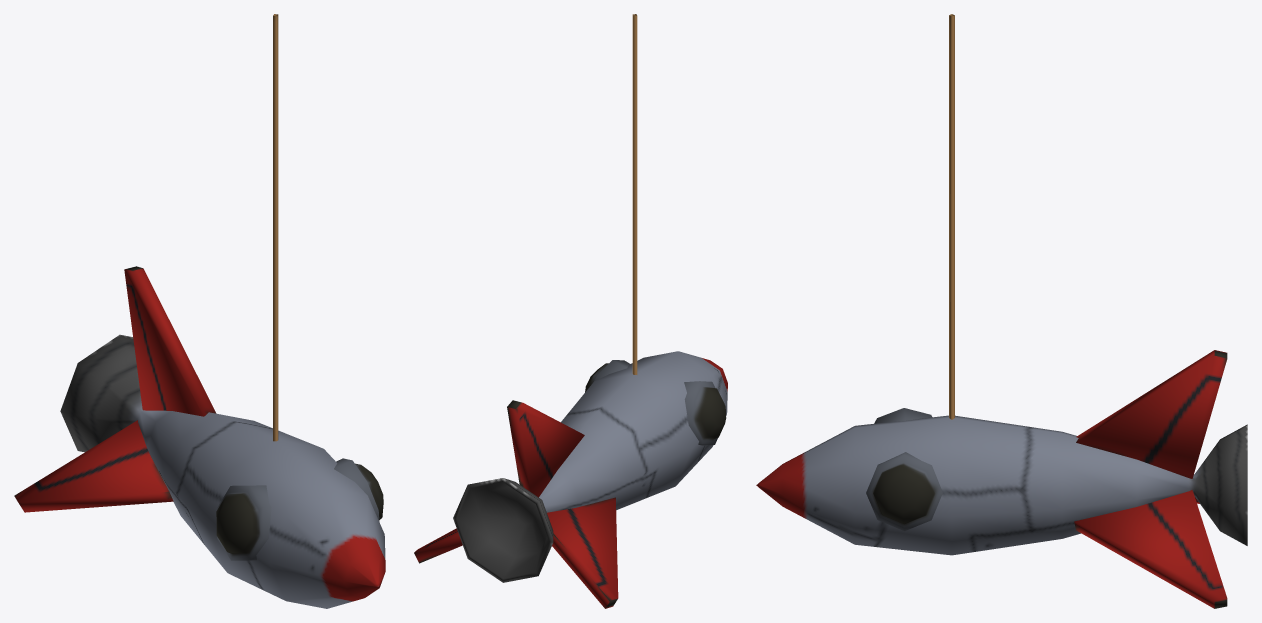
Rendered from Model_Prop_Ship.fbx.
3 renders of one model, left to right at view 1: azimuth 30°, elevation 25°; view 2: azimuth 150°, elevation 25°; view 3: azimuth 270°, elevation 25°, orthographic. The views are drawn at different scales.
Parts seen in each view (by area): view 1: Circle, Cube.132, Cube.130, Circle.006, Circle.007; view 2: Circle, Cube.132, Cube.130, Circle.006, Circle.007, Cube.131; view 3: Circle, Cube.130, Cube.131, Circle.006, Circle.007.
Part boxes in pixels (x1,y1,x2,y2): Circle: [60, 334, 385, 608]; Cube.132: [14, 420, 173, 512]; Cube.130: [124, 266, 216, 416]; Circle.006: [216, 458, 383, 560]; Circle.007: [273, 14, 278, 441]; Circle: [453, 351, 727, 582]; Cube.132: [547, 497, 618, 608]; Cube.130: [507, 400, 584, 497]; Circle.006: [585, 360, 726, 445]; Circle.007: [632, 14, 637, 374]; Cube.131: [414, 528, 462, 563]; Circle: [756, 415, 1247, 555]; Cube.130: [1076, 350, 1227, 478]; Cube.131: [1074, 490, 1227, 608]; Circle.006: [866, 408, 942, 530]; Circle.007: [949, 14, 954, 419].
Bounding box in the file's own units: 3.49 × 8.01 × 6.59.
